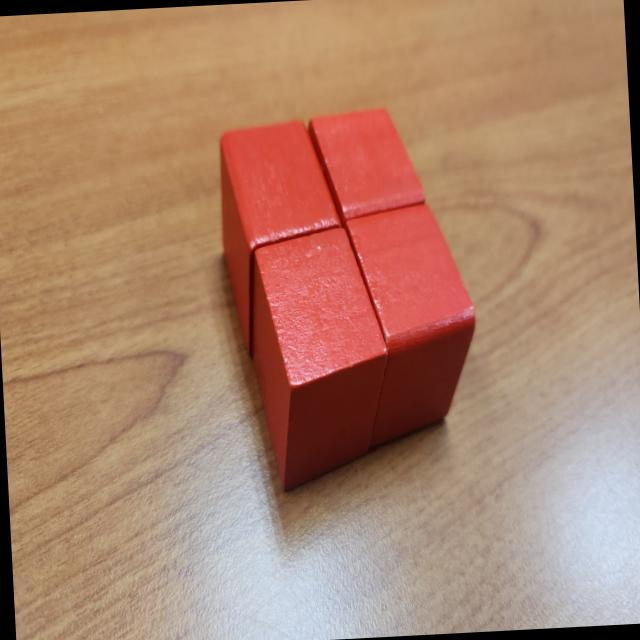red: (245, 224, 394, 494), (342, 198, 482, 451), (216, 118, 356, 362), (307, 106, 426, 227)
